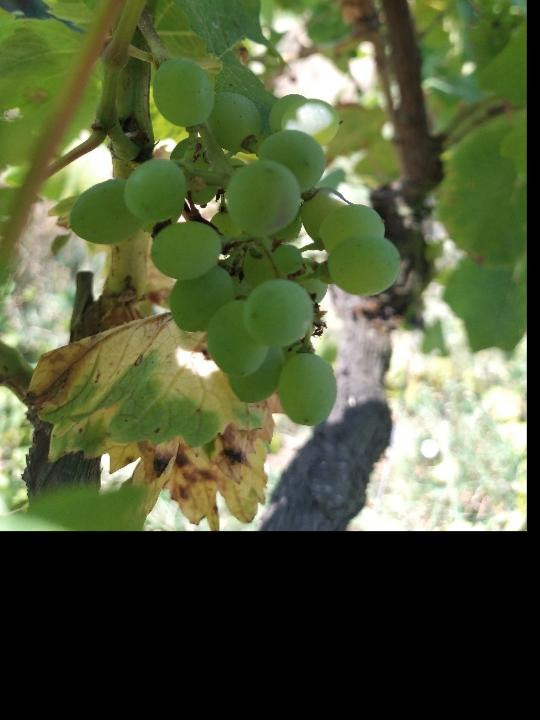grape: (69, 56, 405, 428)
